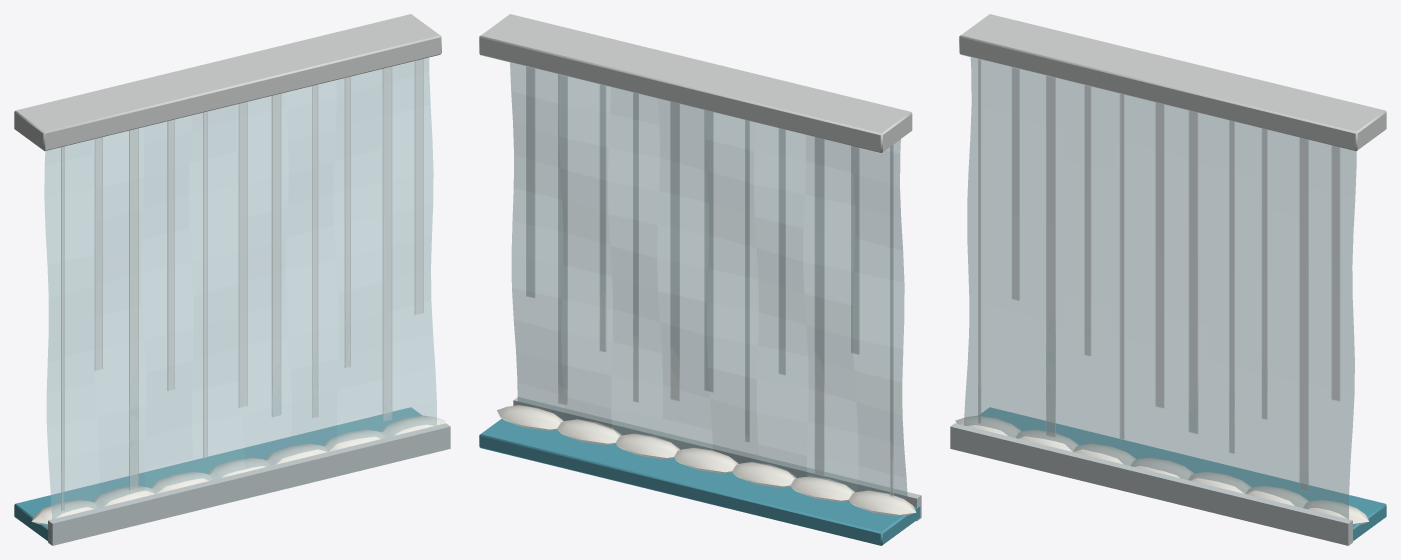
The model's file is water_curtain.glb.
The picture shows the model from 3 angles, left to right: view 1: azimuth 30°, elevation 25°; view 2: azimuth 150°, elevation 25°; view 3: azimuth 330°, elevation 25°; orthographic projection.
Parts seen in each view (by area): view 1: CurtainSheet, CurtainFrame; view 2: CurtainSheet, CurtainFrame; view 3: CurtainSheet, CurtainFrame.
Boxes of the visible parts, bbox=[...] form: CurtainSheet: bbox=[44, 57, 436, 519]; CurtainFrame: bbox=[14, 14, 450, 545]; CurtainSheet: bbox=[510, 62, 907, 501]; CurtainFrame: bbox=[479, 14, 921, 545]; CurtainSheet: bbox=[964, 57, 1356, 519]; CurtainFrame: bbox=[950, 14, 1386, 545].
Size of the model in its own units: 3.12 by 2.93 by 0.51.
